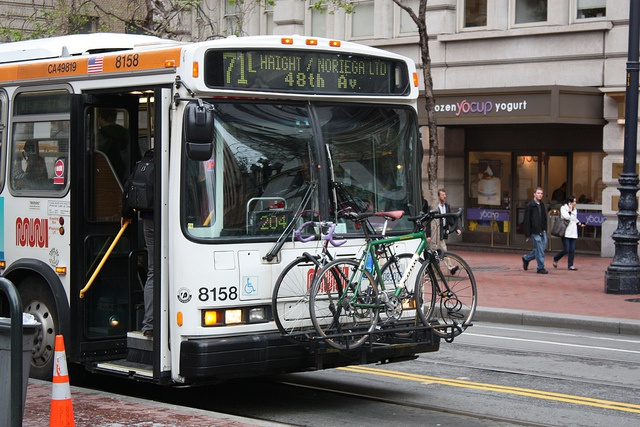non-vehicle: (309, 206, 477, 350), (268, 212, 402, 335)
